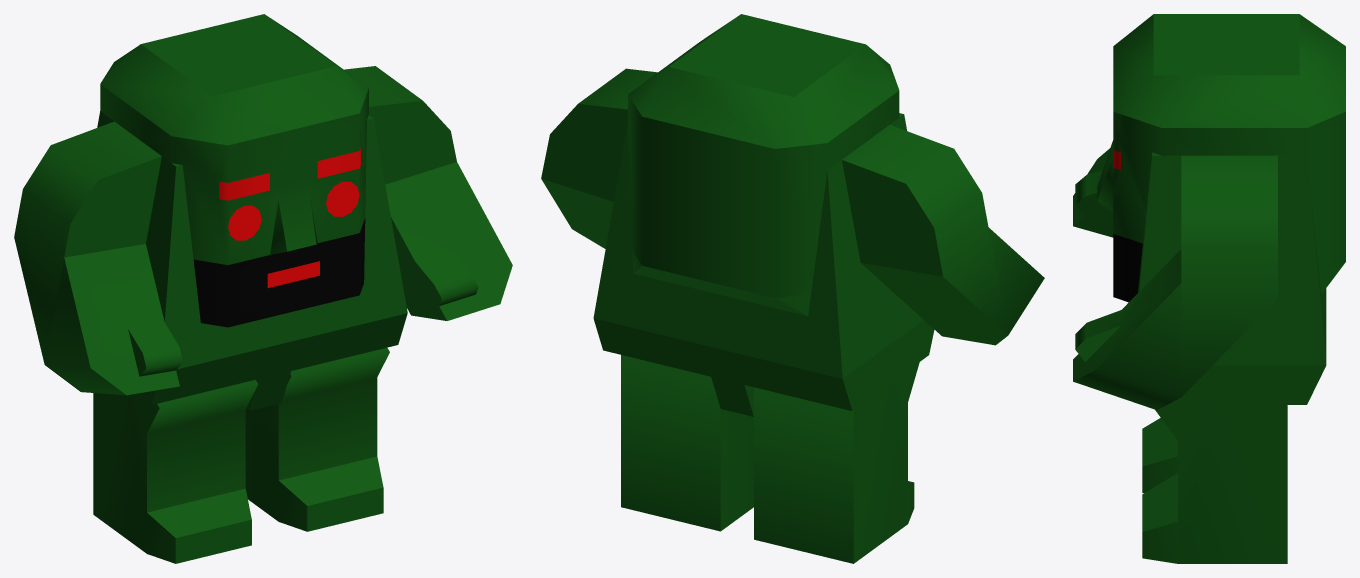
Rendered from Enemy3.fbx.
The picture shows the model from 3 angles, left to right: view 1: azimuth 30°, elevation 25°; view 2: azimuth 150°, elevation 25°; view 3: azimuth 270°, elevation 25°; orthographic projection.
Visible parts, largest first — view 1: mergedBlocks; view 2: mergedBlocks; view 3: mergedBlocks.
Boxes of the visible parts, x1,y1,x2,y2 form: mergedBlocks: (14, 14, 512, 563); mergedBlocks: (541, 14, 1044, 563); mergedBlocks: (1073, 14, 1345, 563).
Size of the model in its own units: 5.25 by 5.26 by 2.82.
